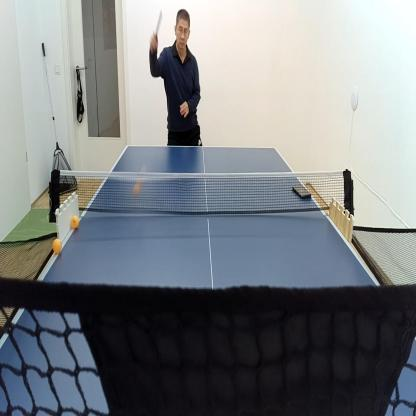Ball: (53, 239, 62, 255), (71, 217, 78, 230), (134, 184, 143, 194)
